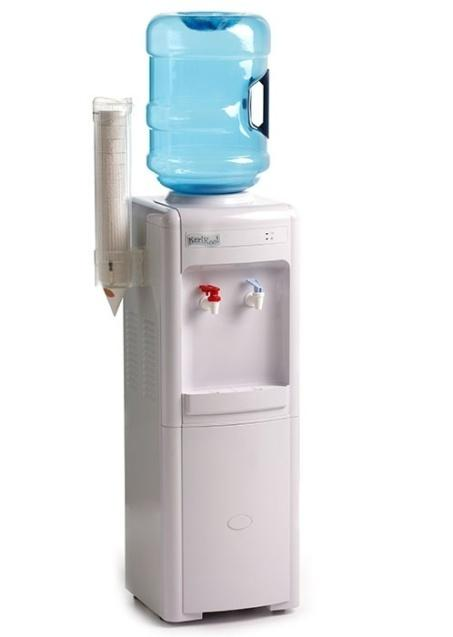Dispenser: (120, 12, 301, 625)
